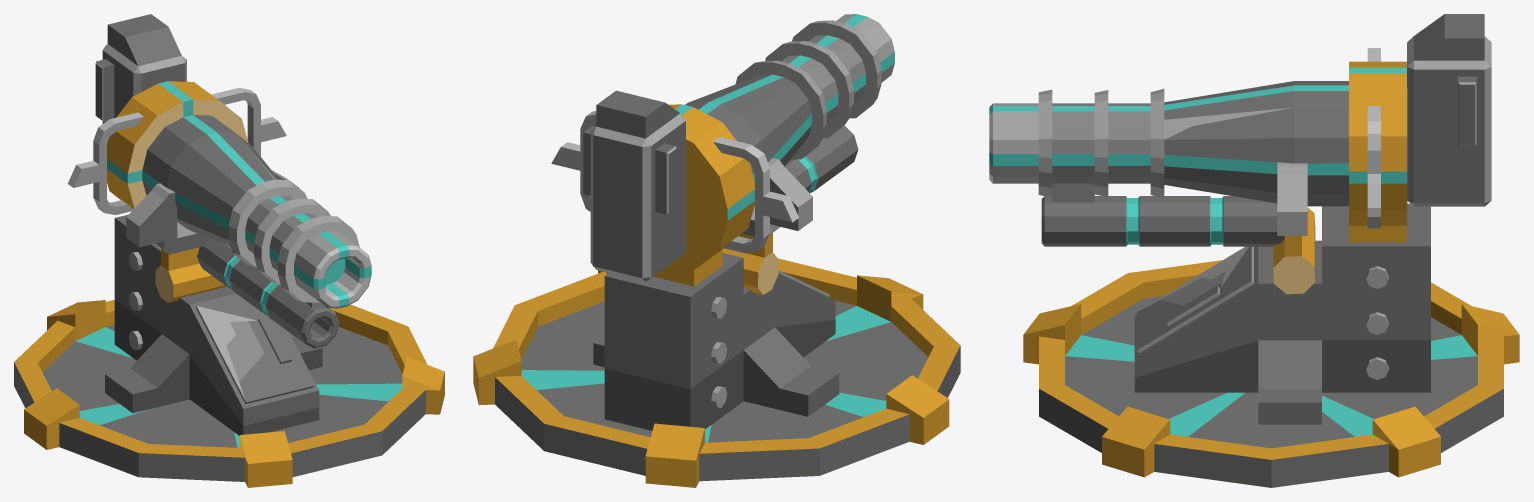
File: tower_laser_yellow_3.fbx
3 views of the same model, side by side, from view 1: azimuth 30°, elevation 25°; view 2: azimuth 150°, elevation 25°; view 3: azimuth 270°, elevation 25° (orthographic). The views are drawn at different scales.
Visible parts, largest first — view 1: top_laser_yellow_3, tower_laser_yellow_3; view 2: top_laser_yellow_3, tower_laser_yellow_3; view 3: top_laser_yellow_3, tower_laser_yellow_3.
Part boxes in pixels (x1,y1,x2,y2): top_laser_yellow_3: (67,14,371,435); tower_laser_yellow_3: (14,300,444,487); top_laser_yellow_3: (551,14,894,430); tower_laser_yellow_3: (473,258,960,487); top_laser_yellow_3: (989,14,1491,424); tower_laser_yellow_3: (1023,260,1519,487).
Size of the model in its own units: 147 by 117 by 157.
